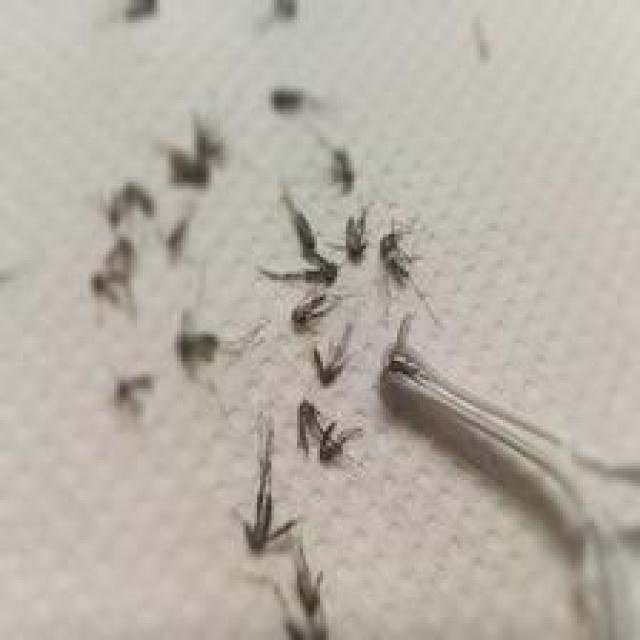Aedes albopictus: (377, 311, 640, 640)
